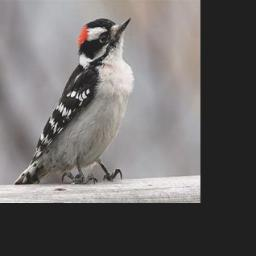Woodpecker: (15, 17, 136, 187)
